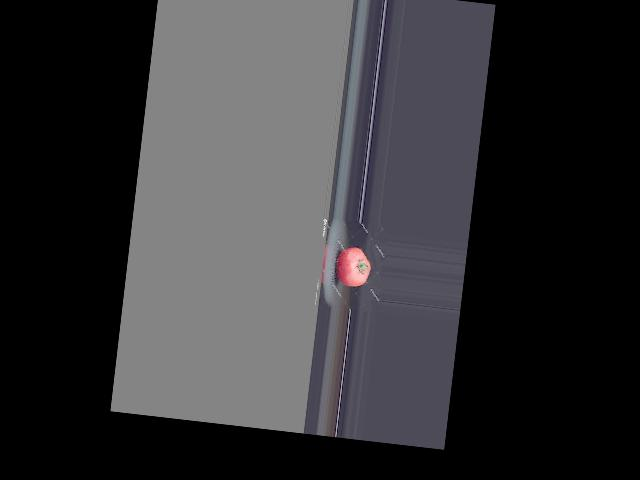tomato: (334, 245, 372, 289)
